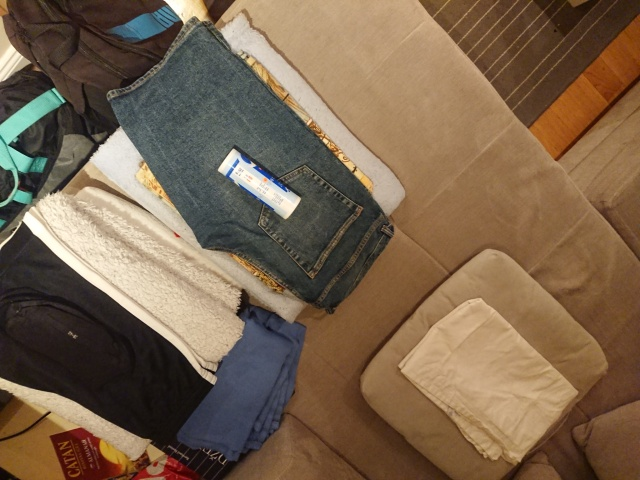Solana Pag Fine Sea Salt 250g: (215, 144, 305, 223)
